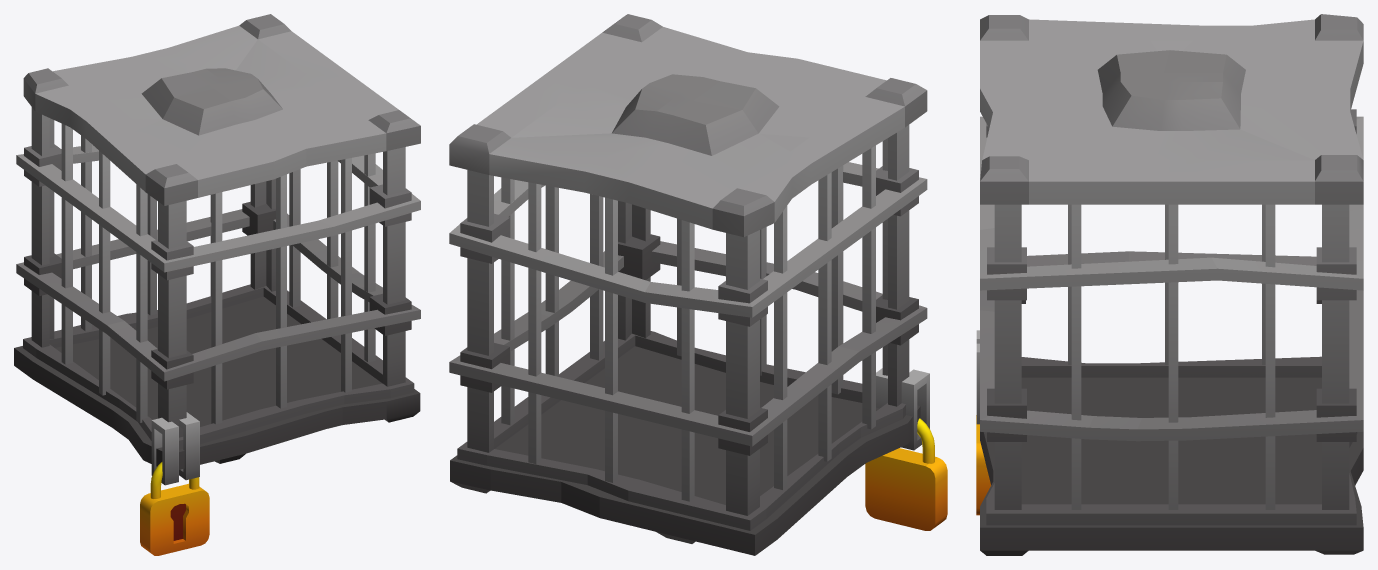
The model's file is M_cage.fbx.
The picture shows the model from 3 angles, left to right: view 1: azimuth 30°, elevation 25°; view 2: azimuth 150°, elevation 25°; view 3: azimuth 270°, elevation 25°; orthographic projection. The views are drawn at different scales.
Parts seen in each view (by area): view 1: M_cage_3D, M_cage_piece04, M_cage_door, M_cage_piece02, M_cage_piece03, M_lock, M_cage_piece01; view 2: M_cage_3D, M_cage_piece04, M_cage_door, M_cage_piece01, M_cage_piece03, M_lock, M_cage_piece02; view 3: M_cage_3D, M_cage_piece04, M_cage_door, M_cage_piece01, M_cage_piece02, M_cage_piece03, M_lock.
Part boxes in pixels (left/top/right/bottom): M_cage_3D: left=14, top=17, right=420, bottom=485; M_cage_piece04: left=29, top=14, right=420, bottom=205; M_cage_door: left=76, top=296, right=420, bottom=463; M_cage_piece02: left=210, top=147, right=419, bottom=430; M_cage_piece03: left=16, top=114, right=135, bottom=394; M_lock: left=140, top=462, right=209, bottom=555; M_cage_piece01: left=242, top=171, right=340, bottom=319; M_cage_3D: left=449, top=14, right=929, bottom=555; M_cage_piece04: left=453, top=14, right=920, bottom=227; M_cage_door: left=450, top=346, right=852, bottom=543; M_cage_piece01: left=449, top=177, right=640, bottom=463; M_cage_piece03: left=628, top=206, right=858, bottom=524; M_lock: left=865, top=418, right=947, bottom=530; M_cage_piece02: left=541, top=185, right=862, bottom=404; M_cage_3D: left=976, top=14, right=1363, bottom=525; M_cage_piece04: left=980, top=14, right=1363, bottom=204; M_cage_door: left=980, top=396, right=1363, bottom=555; M_cage_piece01: left=1168, top=204, right=1363, bottom=509; M_cage_piece02: left=980, top=205, right=1217, bottom=525; M_cage_piece03: left=1134, top=112, right=1355, bottom=377; M_lock: left=976, top=415, right=990, bottom=515.
Bounding box in the file's own units: 6.93 × 9.32 × 6.6.
